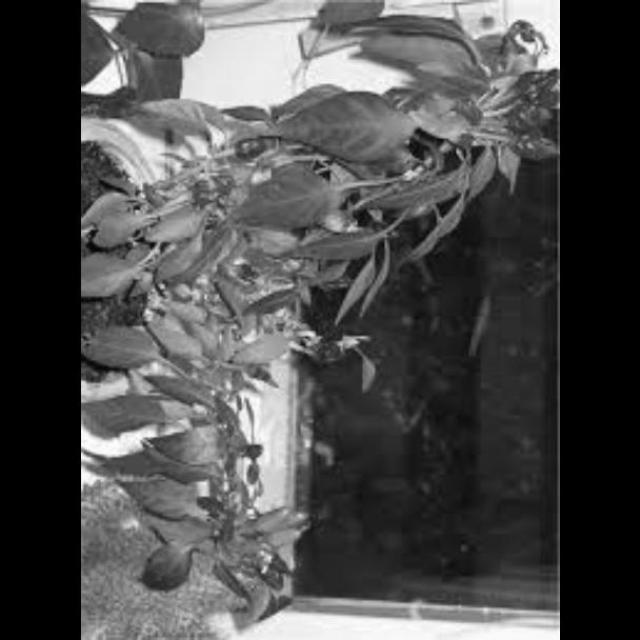ot cay: (498, 54, 560, 169), (173, 167, 235, 250), (370, 78, 428, 122), (219, 130, 269, 172), (299, 330, 345, 368), (250, 356, 293, 396), (234, 252, 274, 293), (259, 552, 295, 596), (368, 207, 408, 244), (309, 267, 360, 295), (239, 434, 273, 463)
